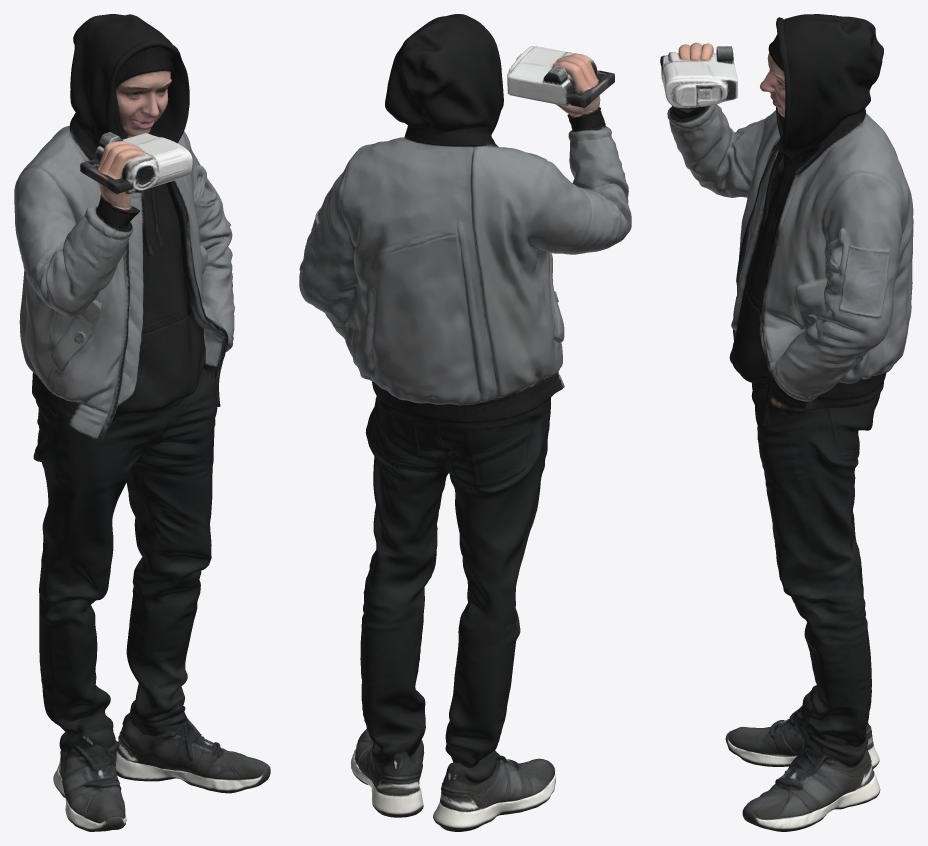
File: MAZ.glb
3 renders of one model, left to right at view 1: azimuth 30°, elevation 25°; view 2: azimuth 150°, elevation 25°; view 3: azimuth 270°, elevation 25°, orthographic.
Visible parts, largest first — view 1: tripo_node_26f7e8a8-10ce-4e49-9182-46000f957d90; view 2: tripo_node_26f7e8a8-10ce-4e49-9182-46000f957d90; view 3: tripo_node_26f7e8a8-10ce-4e49-9182-46000f957d90.
Part boxes in pixels (x1,y1,x2,y2): tripo_node_26f7e8a8-10ce-4e49-9182-46000f957d90: (14,14,270,831); tripo_node_26f7e8a8-10ce-4e49-9182-46000f957d90: (299,14,631,831); tripo_node_26f7e8a8-10ce-4e49-9182-46000f957d90: (660,14,913,831).
Bounding box in the file's own units: 0.3348 × 0.9777 × 0.2934.
Materials: 1 (1 with a texture image).
